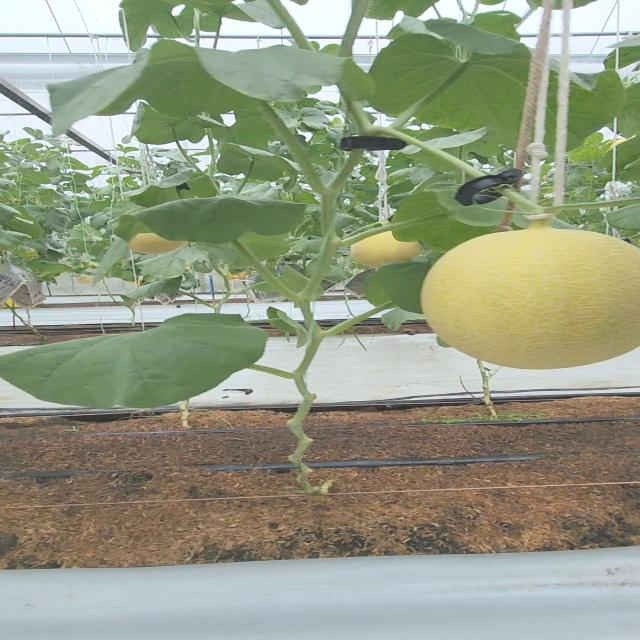Front-melon: (420, 229, 640, 371)
Rear-melon: (356, 237, 408, 265)
